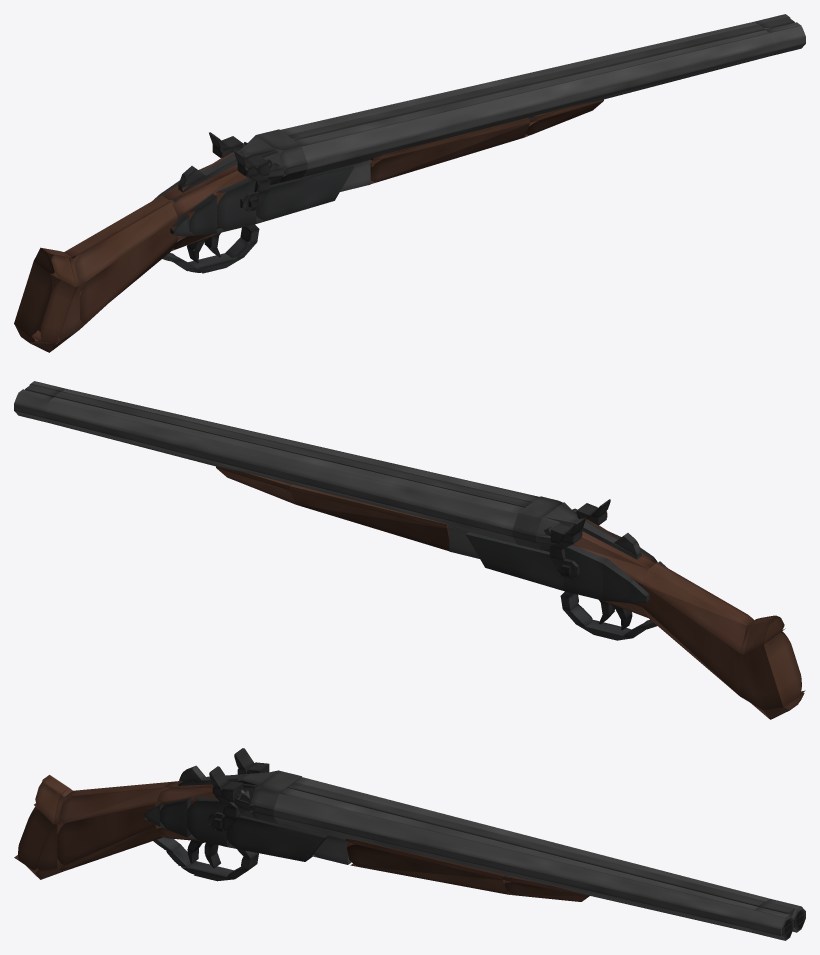
File: dbarrels.obj
The picture shows the model from 3 angles, top to bottom: view 1: azimuth 30°, elevation 25°; view 2: azimuth 150°, elevation 25°; view 3: azimuth 330°, elevation 25°; orthographic projection.
Visible parts, largest first — view 1: breakActionModel13, breakActionModel18, gunModel6, breakActionModel12, gunModel7, gunModel1, breakActionModel20, gunModel9, breakActionModel15, breakActionModel17, gunModel17, gunModel11 (+7 smaller); view 2: breakActionModel15, breakActionModel18, gunModel6, breakActionModel14, gunModel7, gunModel1, breakActionModel20, gunModel9, breakActionModel13, breakActionModel16, gunModel11, gunModel17 (+7 smaller); view 3: breakActionModel13, breakActionModel18, breakActionModel12, gunModel7, gunModel9, breakActionModel20, breakActionModel15, gunModel6, breakActionModel17, gunModel11, gunModel1, gunModel8 (+11 smaller).
Part boxes in pixels (x1,y1,x2,y2): breakActionModel13: (293,30,774,162); breakActionModel18: (287,24,765,146); gunModel6: (64,195,177,285); breakActionModel12: (307,45,774,169); gunModel7: (73,217,177,328); gunModel1: (14,261,75,343); breakActionModel20: (370,123,529,183); gunModel9: (256,165,354,223); breakActionModel15: (280,21,757,146); breakActionModel17: (303,51,773,176); gunModel17: (162,152,248,216); gunModel11: (198,164,256,233); breakActionModel15: (45,397,524,529); breakActionModel18: (54,391,532,507); gunModel6: (642,562,754,652); breakActionModel14: (45,412,512,536); gunModel7: (642,584,739,695); gunModel1: (744,631,805,710); breakActionModel20: (290,490,449,550); gunModel9: (465,532,563,590); breakActionModel13: (62,388,539,502); breakActionModel16: (46,418,516,543); gunModel11: (563,531,621,600); gunModel17: (572,519,657,583); breakActionModel13: (273,786,757,921); breakActionModel18: (287,782,764,906); breakActionModel12: (273,810,749,928); gunModel7: (57,803,159,867); gunModel9: (226,815,327,861); breakActionModel20: (347,843,510,894); breakActionModel15: (287,777,769,901); gunModel6: (57,782,170,824); breakActionModel17: (274,817,753,933); gunModel11: (187,797,230,846); gunModel1: (14,806,53,870); gunModel8: (59,826,163,870).
Bounding box in the file's own units: 19.57 × 3.9 × 1.7.
